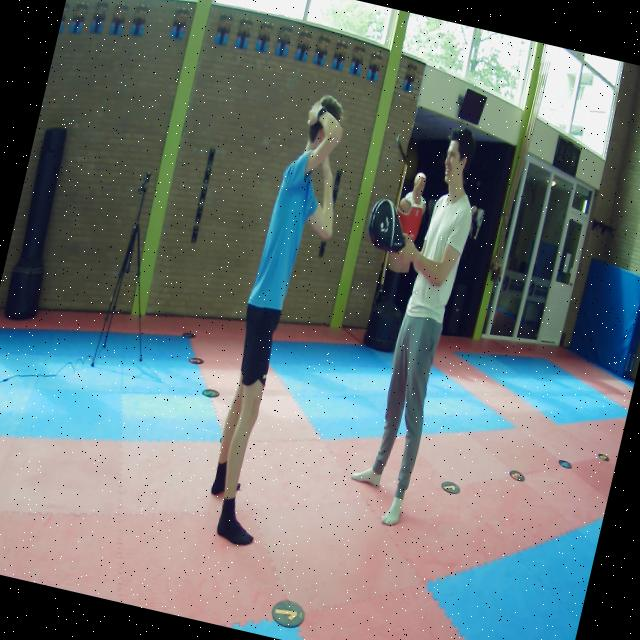paddle: (368, 198, 405, 252)
